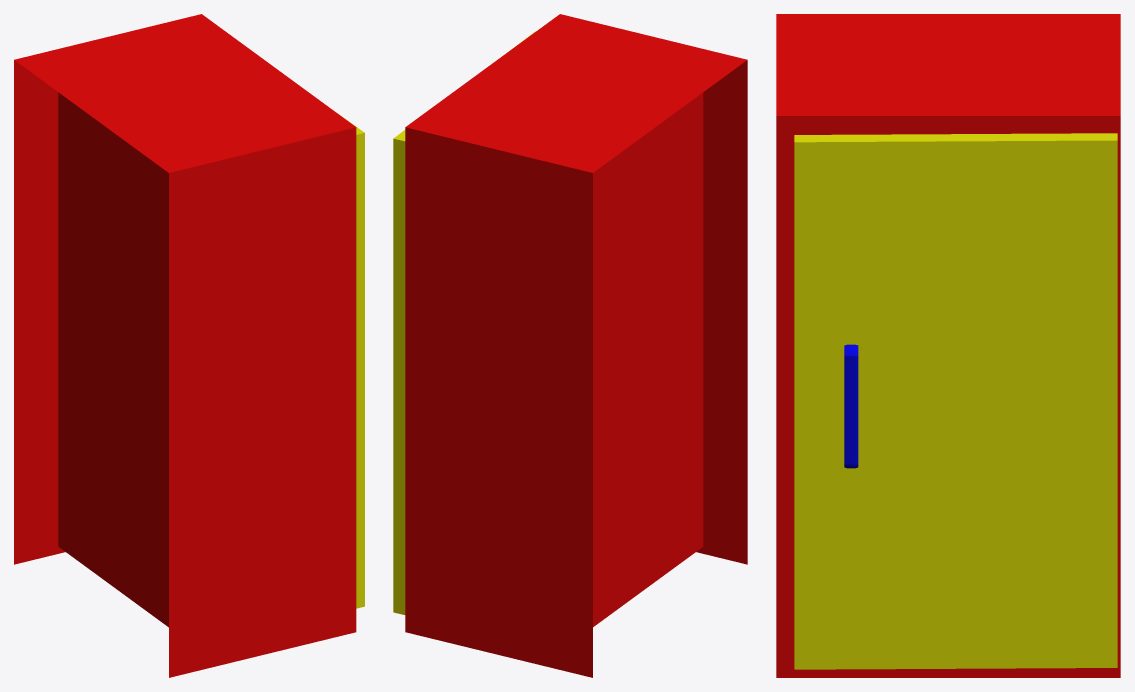
File: Animation_Kühlschrank_Level_1.fbx
3 renders of one model, left to right at view 1: azimuth 30°, elevation 25°; view 2: azimuth 150°, elevation 25°; view 3: azimuth 270°, elevation 25°, orthographic. The views are drawn at different scales.
Visible parts, largest first — view 1: polySurface3, polySurface1; view 2: polySurface3, polySurface1; view 3: polySurface1, polySurface3.
Boxes of the visible parts, bbox=[...] form: polySurface3: bbox=[14, 14, 356, 677]; polySurface1: bbox=[339, 114, 364, 608]; polySurface3: bbox=[405, 14, 747, 677]; polySurface1: bbox=[393, 31, 535, 614]; polySurface1: bbox=[794, 133, 1117, 669]; polySurface3: bbox=[776, 14, 1120, 677].
Bounding box in the file's own units: 0.7883 × 1.8 × 1.
